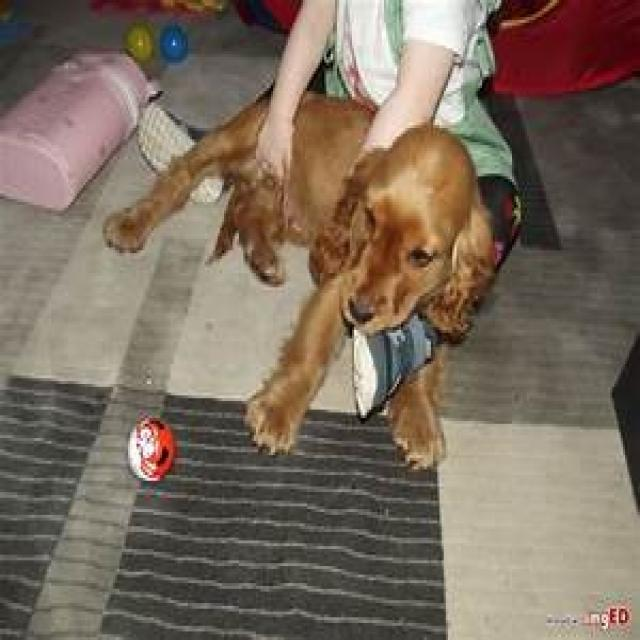animal: (100, 80, 497, 469)
